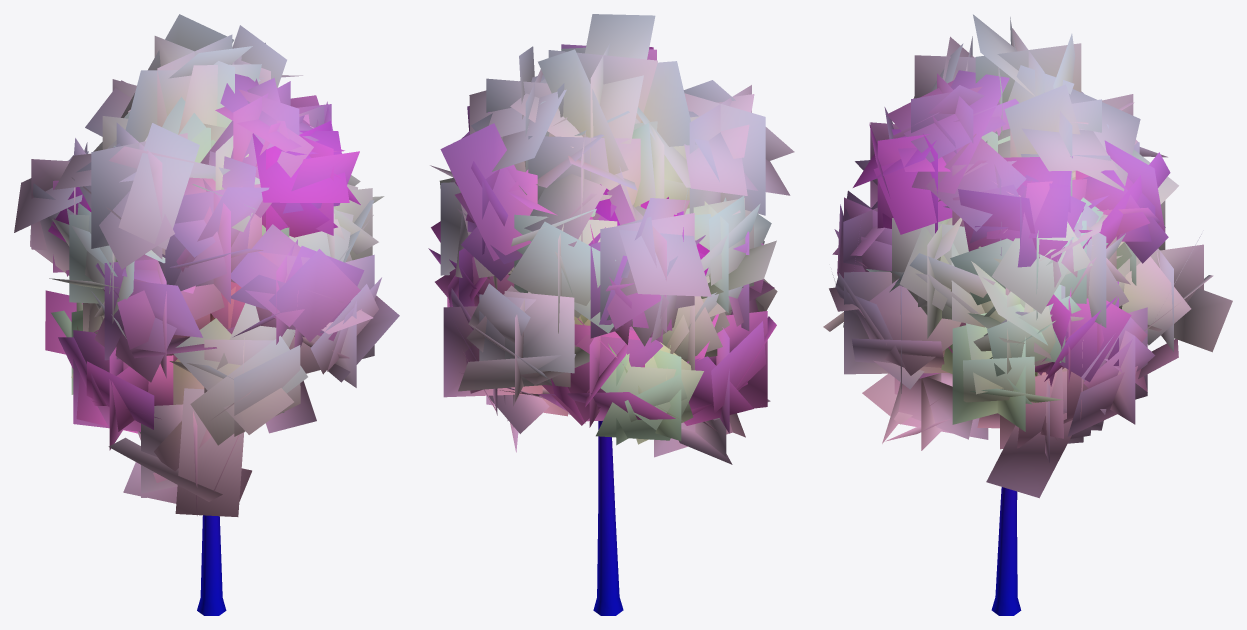
The model's file is broadleaf_b_lod1.glb.
3 renders of one model, left to right at view 1: azimuth 30°, elevation 25°; view 2: azimuth 150°, elevation 25°; view 3: azimuth 270°, elevation 25°, orthographic. The views are drawn at different scales.
Parts seen in each view (by area): view 1: broadleaf_b_lod1; view 2: broadleaf_b_lod1; view 3: broadleaf_b_lod1.
Boxes of the visible parts, x1,y1,x2,y2 form: broadleaf_b_lod1: (14, 14, 399, 615); broadleaf_b_lod1: (428, 14, 794, 615); broadleaf_b_lod1: (823, 14, 1232, 615).
Size of the model in its own units: 6.53 by 11.02 by 7.03.
